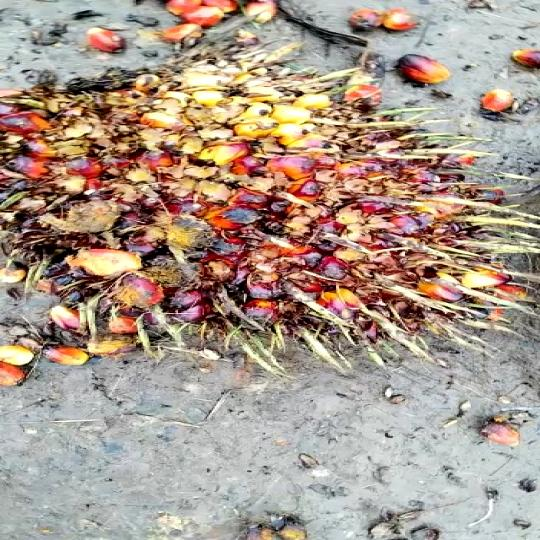terlalu masak: (0, 73, 540, 376)
